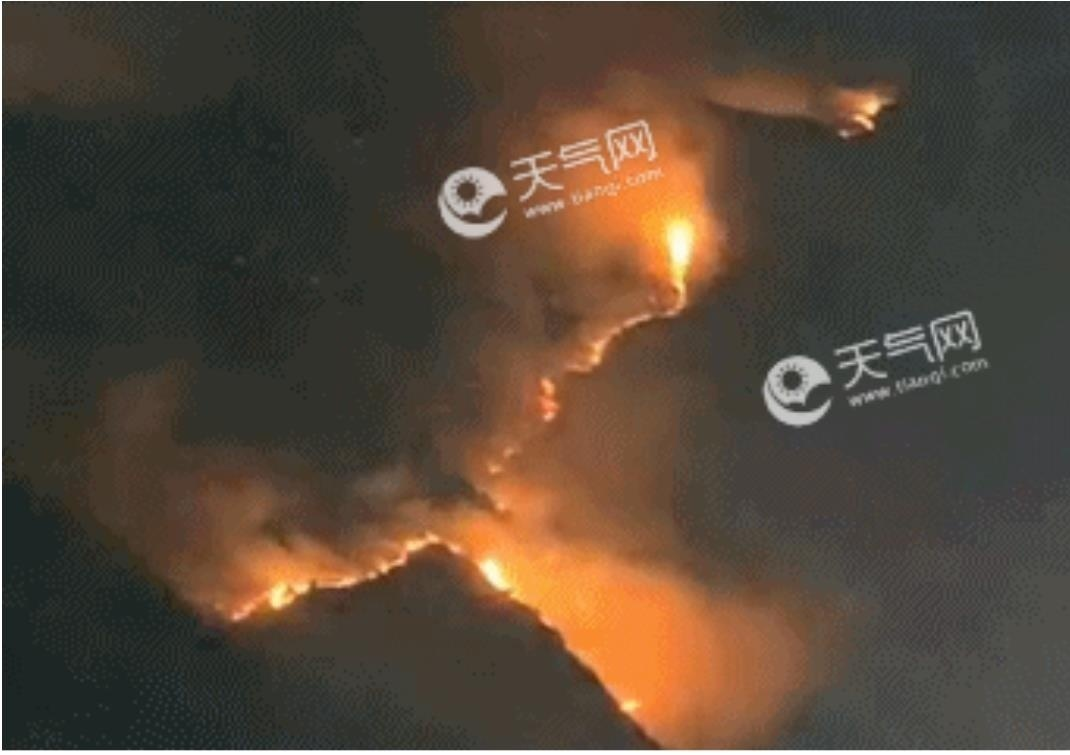fire: (224, 517, 673, 729), (648, 208, 701, 304)
